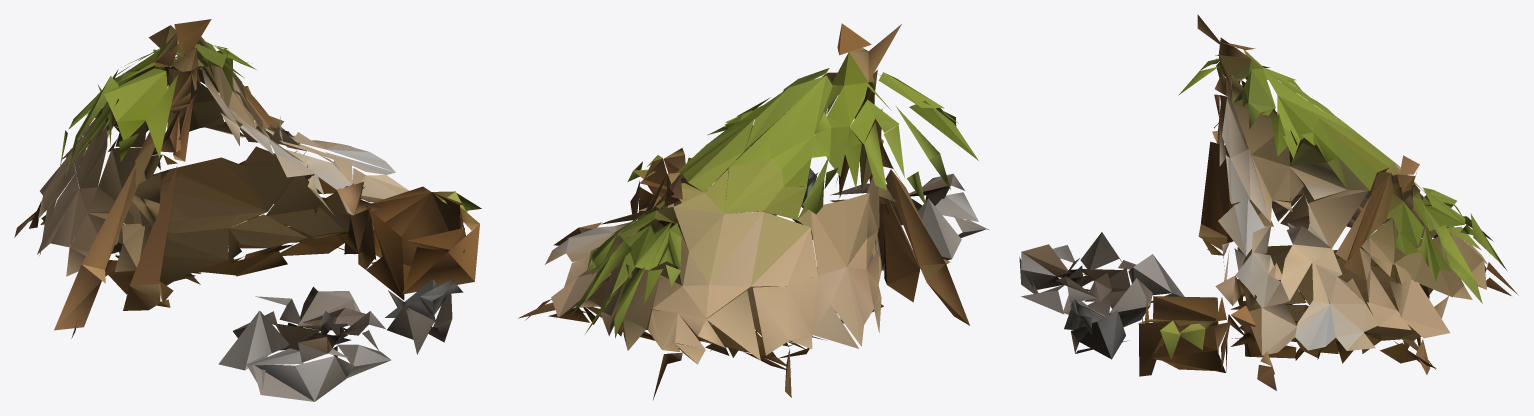
File: land-lastCamp.glb
3 views of the same model, side by side, from view 1: azimuth 30°, elevation 25°; view 2: azimuth 150°, elevation 25°; view 3: azimuth 270°, elevation 25° (orthographic). The views are drawn at different scales.
Visible parts, largest first — view 1: 0_lastCamp; view 2: 0_lastCamp; view 3: 0_lastCamp.
Part boxes in pixels (<box>): 0_lastCamp: <box>14,19,481,401</box>; 0_lastCamp: <box>518,23,989,399</box>; 0_lastCamp: <box>1019,14,1518,390</box>.
Bounding box in the file's own units: 2.09 × 1.52 × 2.5.
